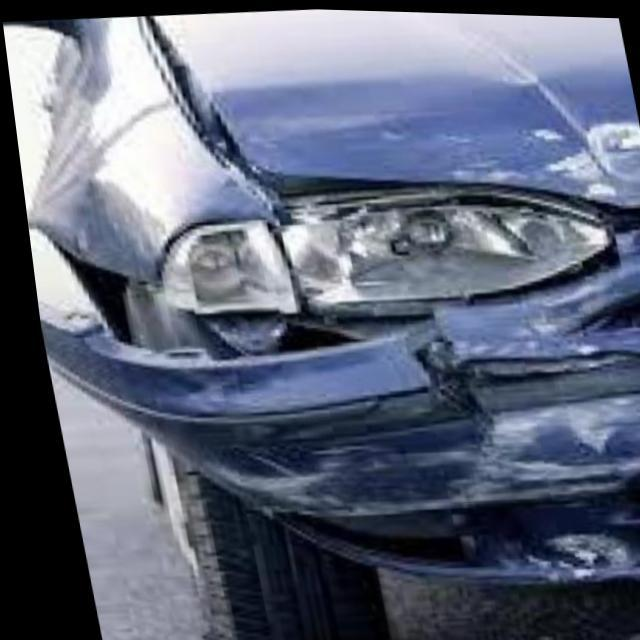dislocated part: (20, 106, 640, 595)
